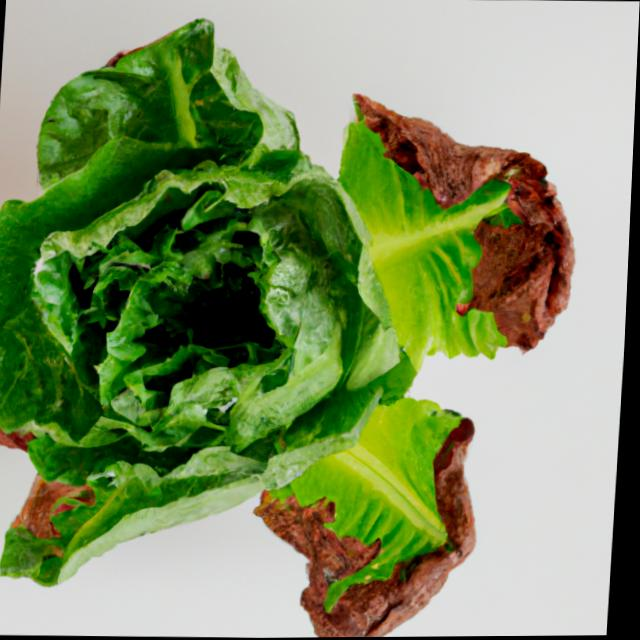-K: (0, 3, 597, 640)
